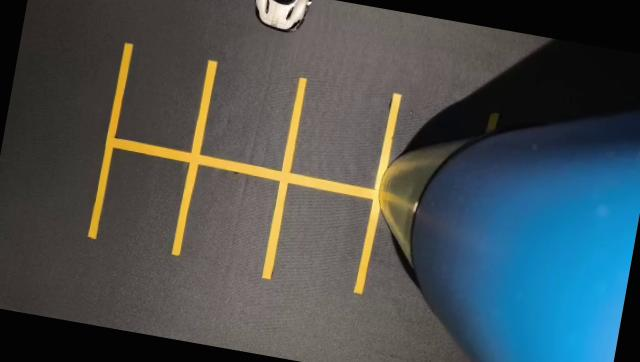toy_car: (229, 0, 334, 50)
